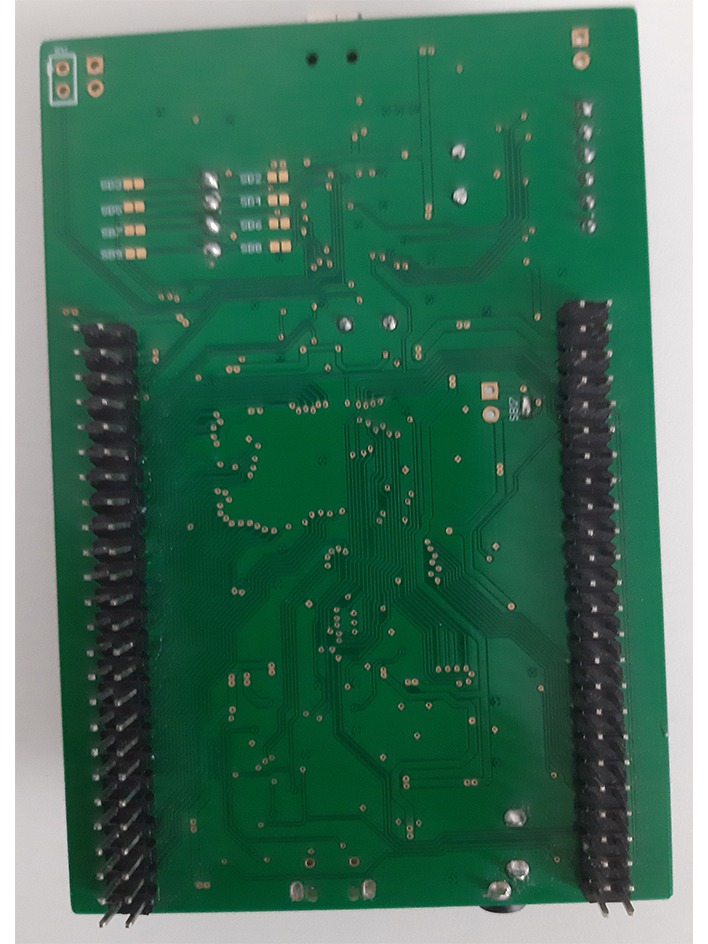STM32F4-DISC: (15, 15, 708, 944)
